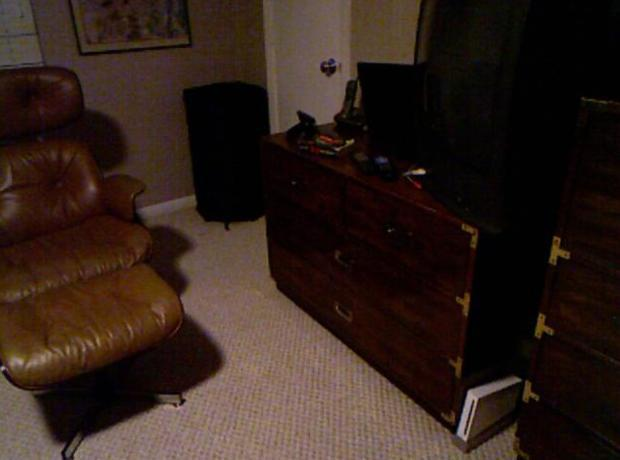Armario: (266, 126, 519, 441), (514, 96, 615, 447)
